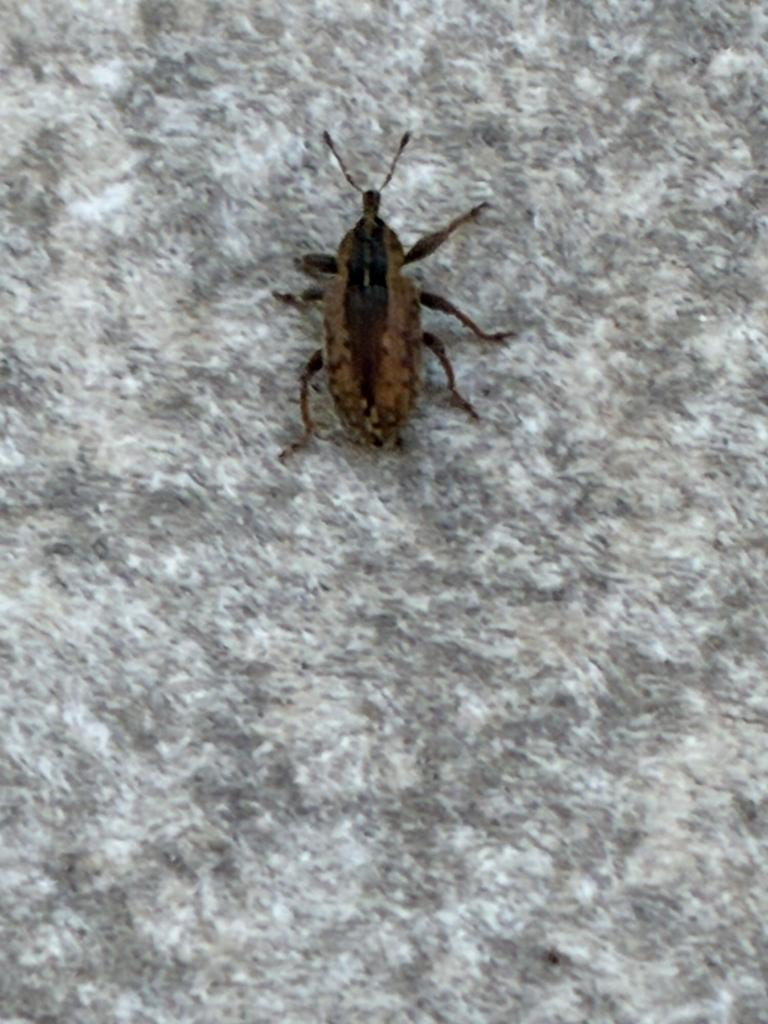weevils: (197, 74, 566, 541)
